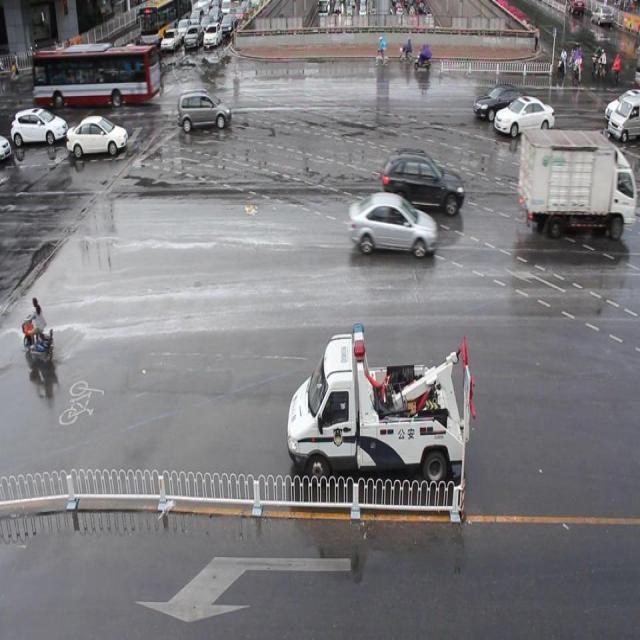bus: (286, 320, 475, 486), (520, 132, 640, 240)
car: (347, 190, 437, 259), (382, 148, 464, 215), (66, 115, 127, 159), (495, 93, 553, 133), (178, 91, 232, 133), (475, 86, 525, 118)
truck: (606, 89, 640, 140)
van: (34, 45, 160, 108)
